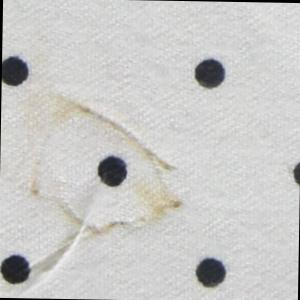Oil Stain: (26, 91, 192, 241)
